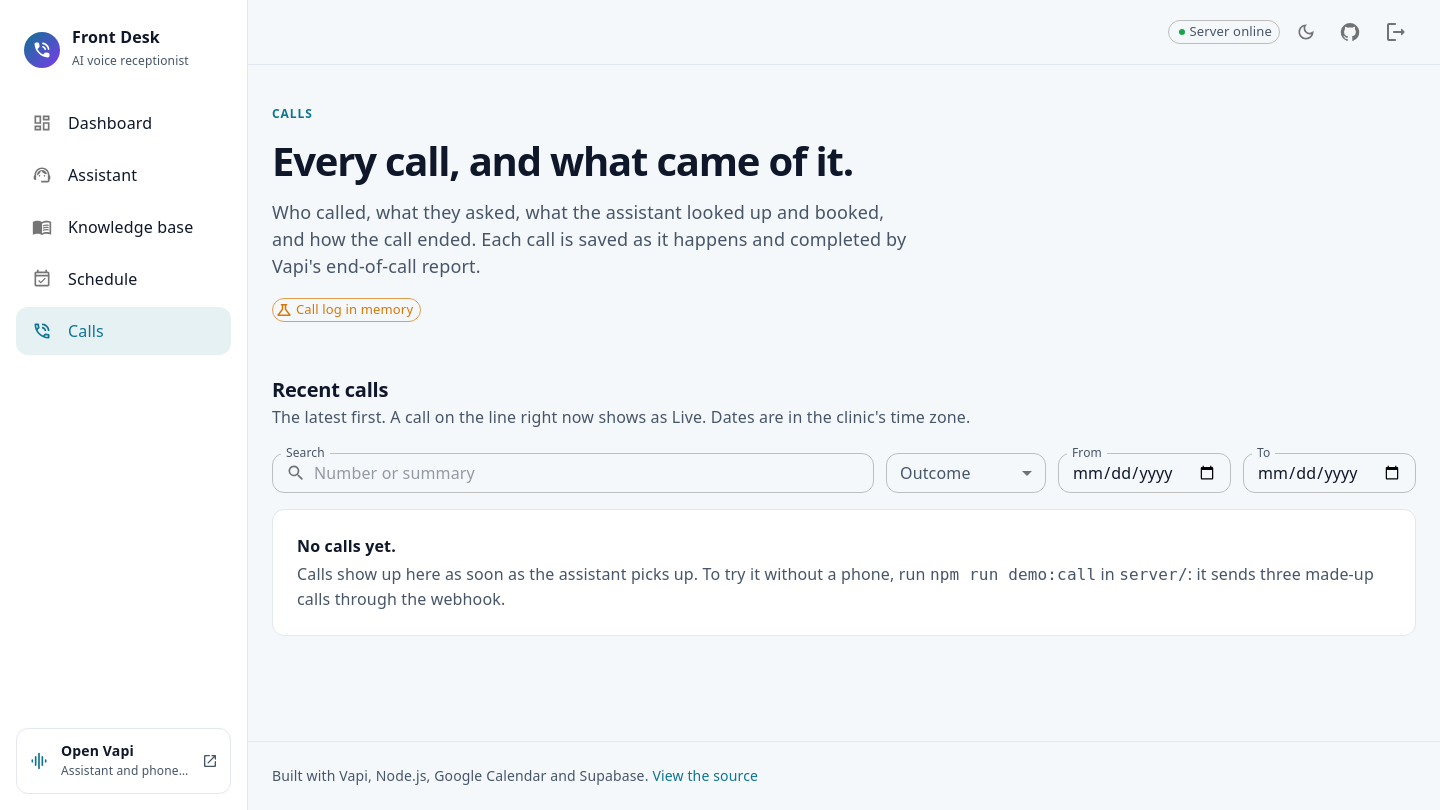
Test case: Sign-in › signs out from the header
Click the button named "Sign out". click: (1396, 32)
box: [1376,12,1416,52]
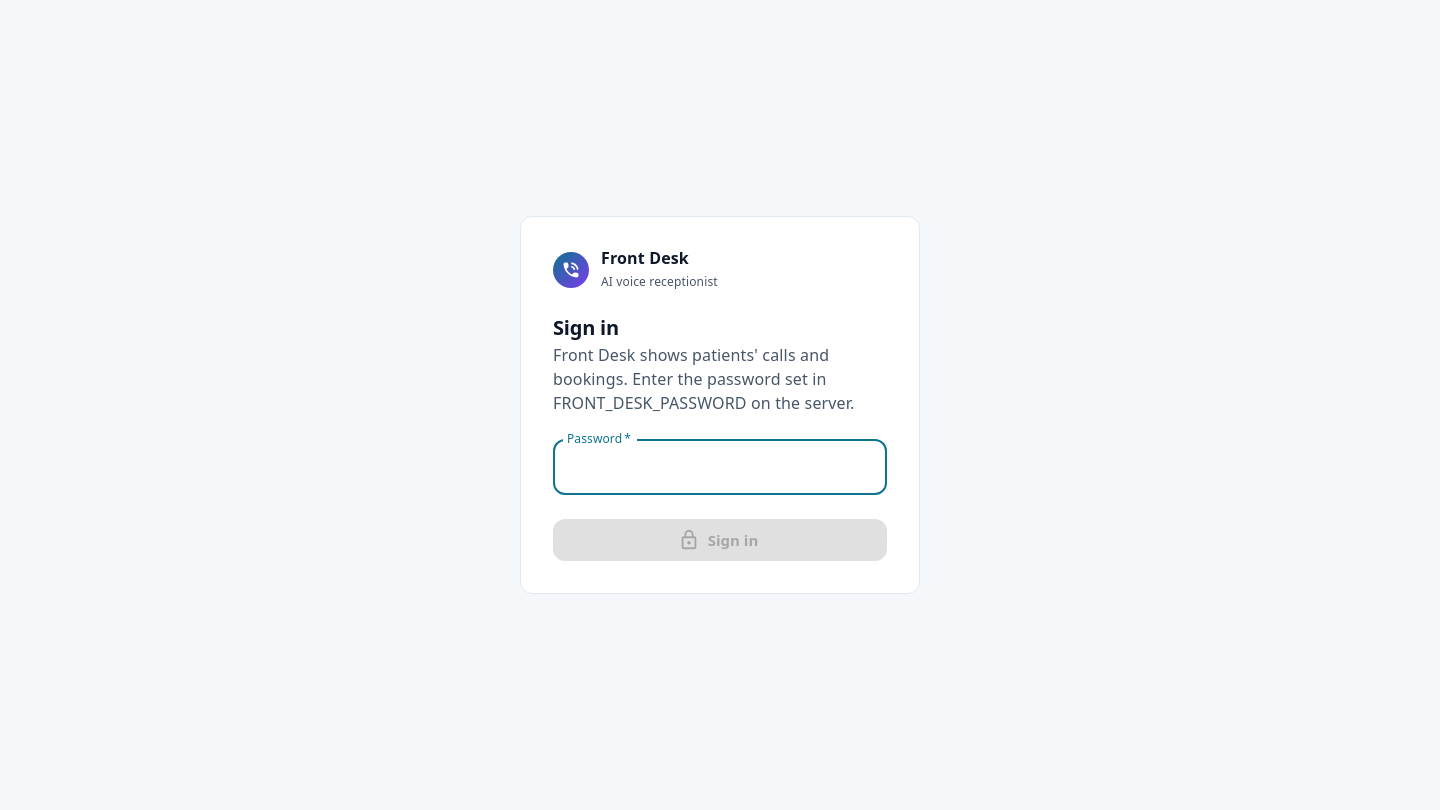
Check: the heading "Sign in" is shown, box [553,314,619,341]
